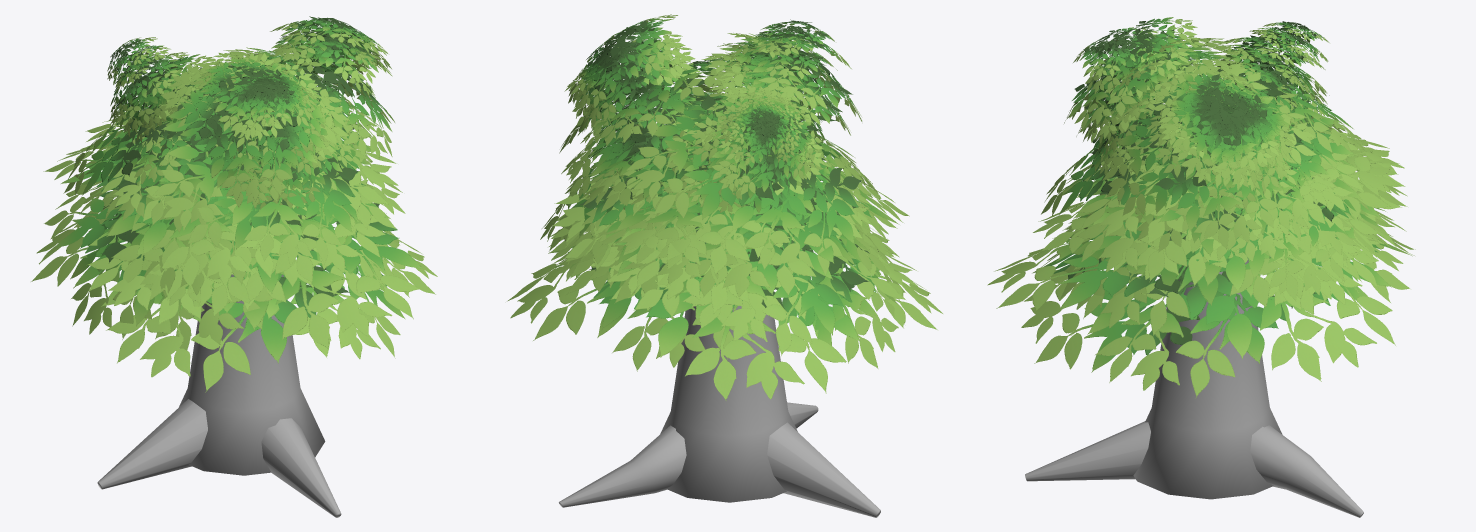
The model's file is TreeType1.fbx.
The picture shows the model from 3 angles, left to right: view 1: azimuth 30°, elevation 25°; view 2: azimuth 150°, elevation 25°; view 3: azimuth 270°, elevation 25°; orthographic projection. The views are drawn at different scales.
Visible parts, largest first — view 1: FlatLeaves1, pCylinder5; view 2: FlatLeaves1, pCylinder5; view 3: FlatLeaves1, pCylinder5.
Part boxes in pixels (left/top/right/bottom): FlatLeaves1: left=31, top=16, right=437, bottom=392; pCylinder5: left=97, top=274, right=341, bottom=517; FlatLeaves1: left=507, top=14, right=942, bottom=400; pCylinder5: left=559, top=306, right=880, bottom=517; FlatLeaves1: left=987, top=17, right=1415, bottom=398; pCylinder5: left=1025, top=258, right=1363, bottom=517.
Bounding box in the file's own units: 58.52 × 61.26 × 60.81.
